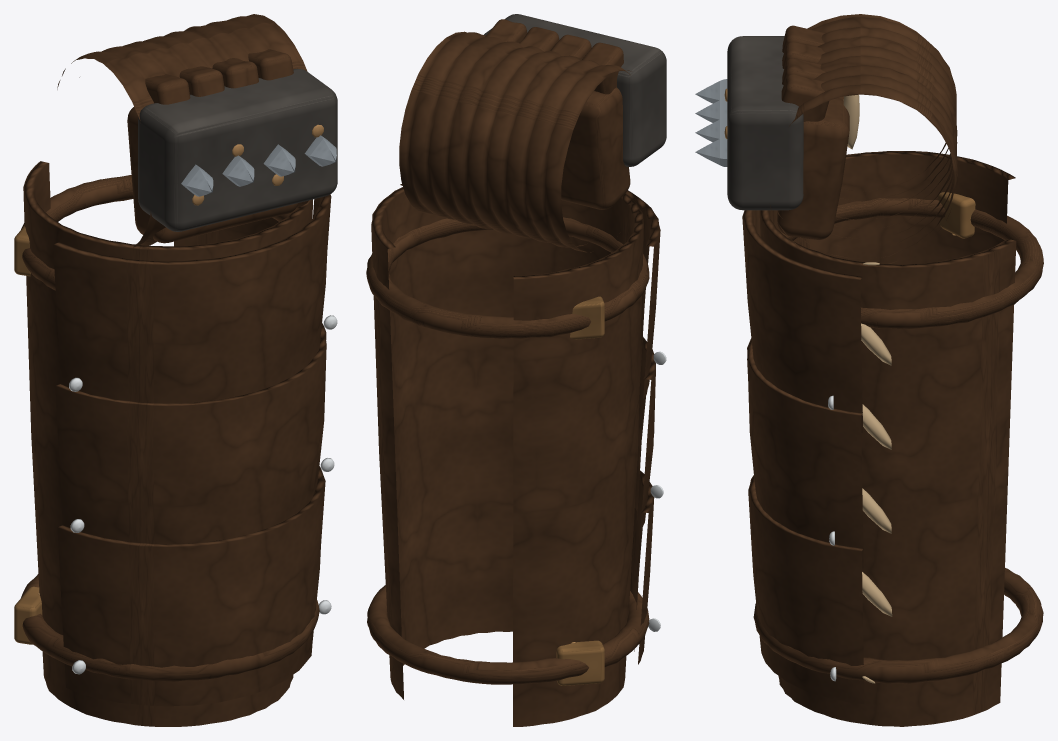
File: cestus.glb
The picture shows the model from 3 angles, left to right: view 1: azimuth 30°, elevation 25°; view 2: azimuth 150°, elevation 25°; view 3: azimuth 270°, elevation 25°; orthographic projection. The views are drawn at different scales.
Parts seen in each view (by area): view 1: leather / oiled leather wrap, iron / hammer-scaled wrought iron, steel / forged blade steel, bronze / cast bronze with patina, edge / honed bright bevel; view 2: leather / oiled leather wrap, iron / hammer-scaled wrought iron, bronze / cast bronze with patina; view 3: leather / oiled leather wrap, iron / hammer-scaled wrought iron, thread loop, steel / forged blade steel, bronze / cast bronze with patina.
Part boxes in pixels (x1,y1,x2,y2): leather / oiled leather wrap: (21,14,331,726); iron / hammer-scaled wrought iron: (138,68,337,231); steel / forged blade steel: (181,135,336,196); bronze / cast bronze with patina: (14,226,42,644); edge / honed bright bevel: (69,315,337,674); leather / oiled leather wrap: (366,19,660,726); iron / hammer-scaled wrought iron: (484,14,666,166); bronze / cast bronze with patina: (556,296,604,685); leather / oiled leather wrap: (742,14,1043,726); iron / hammer-scaled wrought iron: (727,36,803,210); thread loop: (843,94,892,683); steel / forged blade steel: (695,79,727,166); bronze / cast bronze with patina: (938,192,975,238).
Bounding box in the file's own units: 0.1579 × 0.3608 × 0.1831.
Materials: 7 (5 with a texture image).
